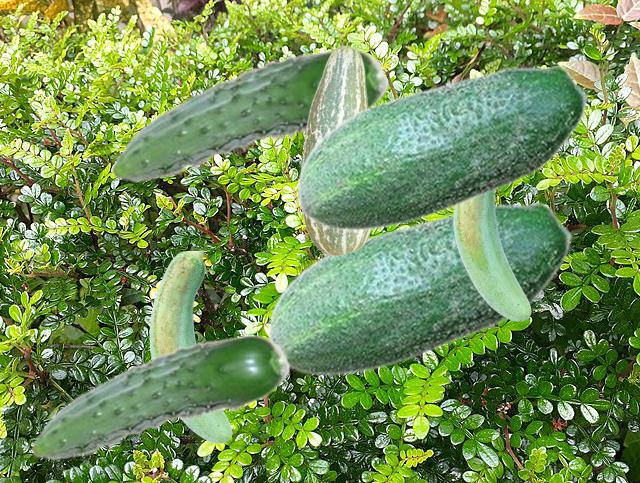cucumber: (267, 201, 572, 375), (296, 64, 588, 230), (110, 47, 389, 181), (30, 334, 290, 459), (149, 251, 231, 442), (301, 45, 371, 255), (453, 192, 530, 320)
